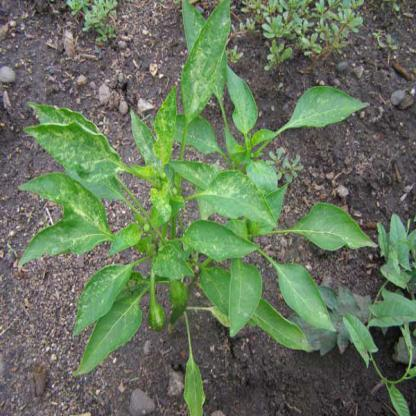bell pepper leaf: (26, 121, 123, 188), (180, 2, 235, 116), (16, 175, 111, 236), (294, 196, 379, 255), (277, 254, 336, 336), (286, 81, 375, 132), (178, 213, 261, 265), (78, 261, 136, 327), (27, 219, 112, 264), (225, 258, 266, 340)
